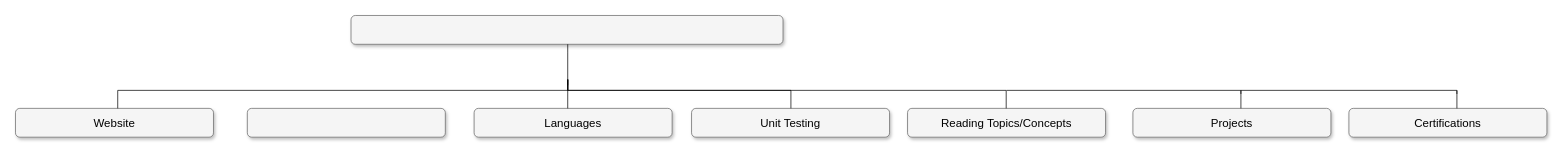
This 1564x155 diagram has some shape labels left out. Each missing label, with the centre of its shape:
Full Stack Web Developer: the point at 567,30
The Odin Project: the point at 347,123
